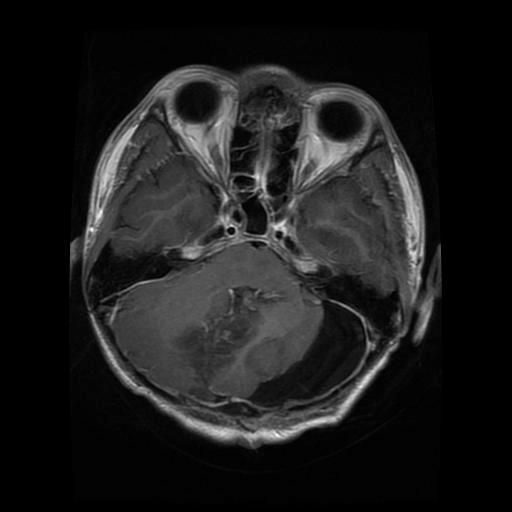Tumour-Glioma: (272, 299, 360, 408)
